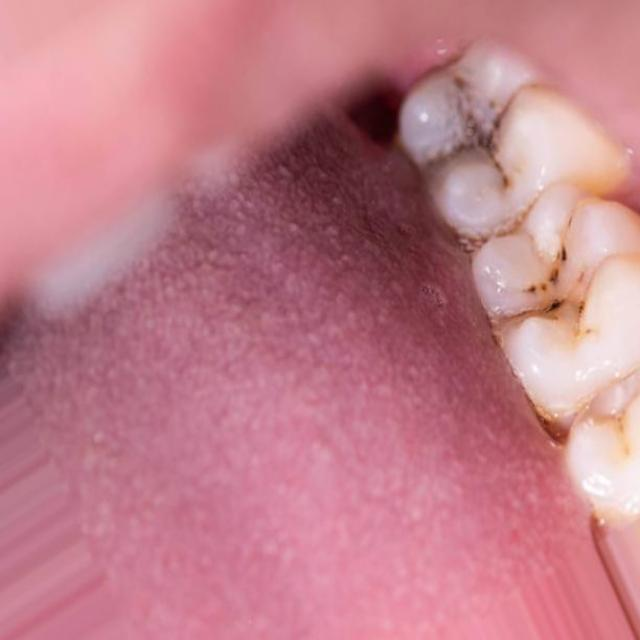caries: (492, 216, 619, 366), (408, 64, 544, 197)
